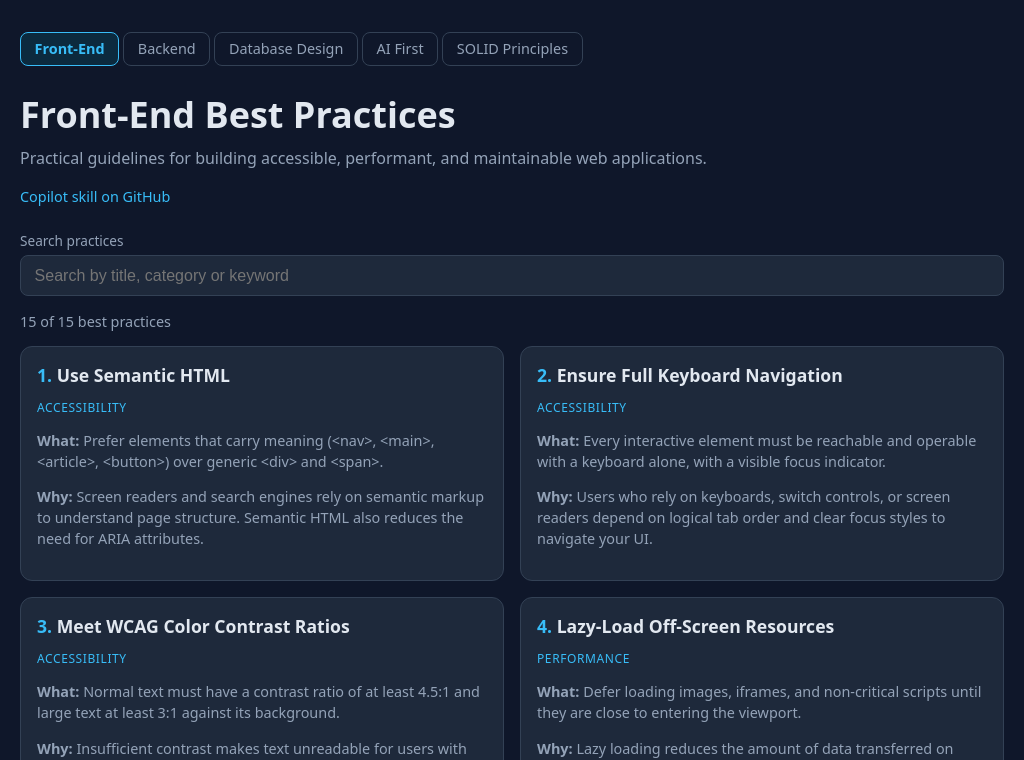
Scenario: BestPracticesPage › switches to the database design section when its tab is clicked
The width and height of the screenshot is (1024, 760).
Step 1. Click the link "Database Design" → coordinates (286, 49), box [214,32,358,66]
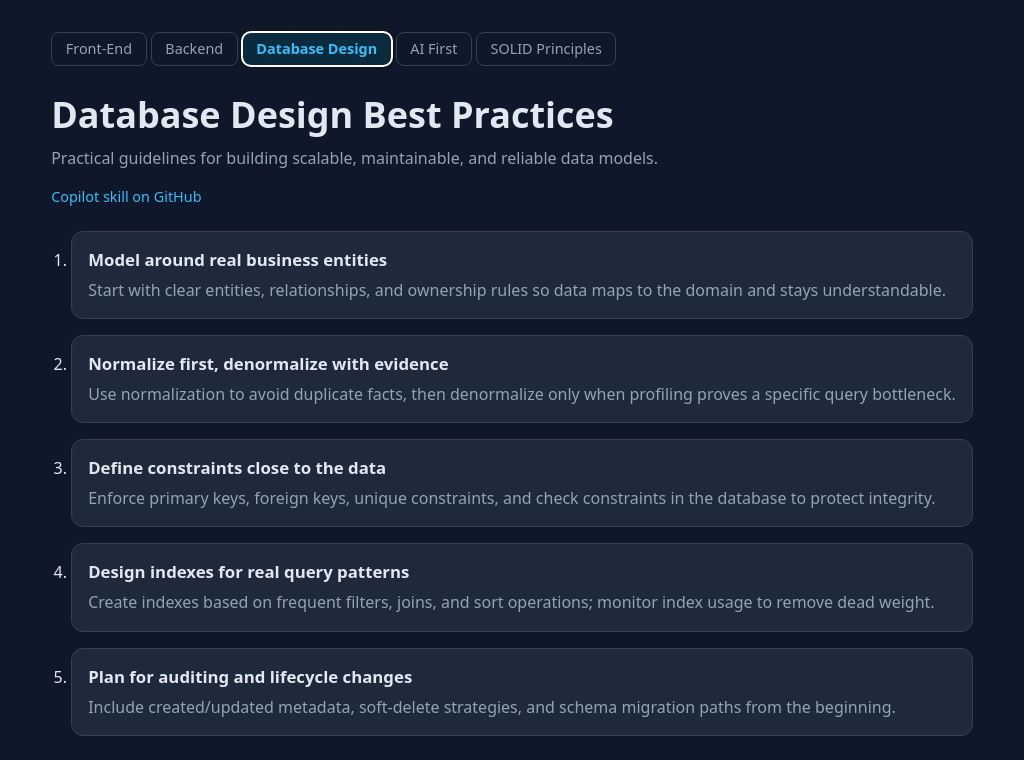
Now the heading "Database Design Best Practices" is shown, box [51,90,614,139]
